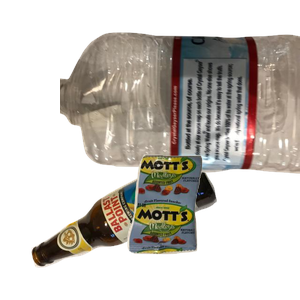glass: (29, 150, 238, 300)
metal: (105, 63, 300, 192)
plastic: (60, 30, 300, 196)
trash: (125, 152, 300, 300)
